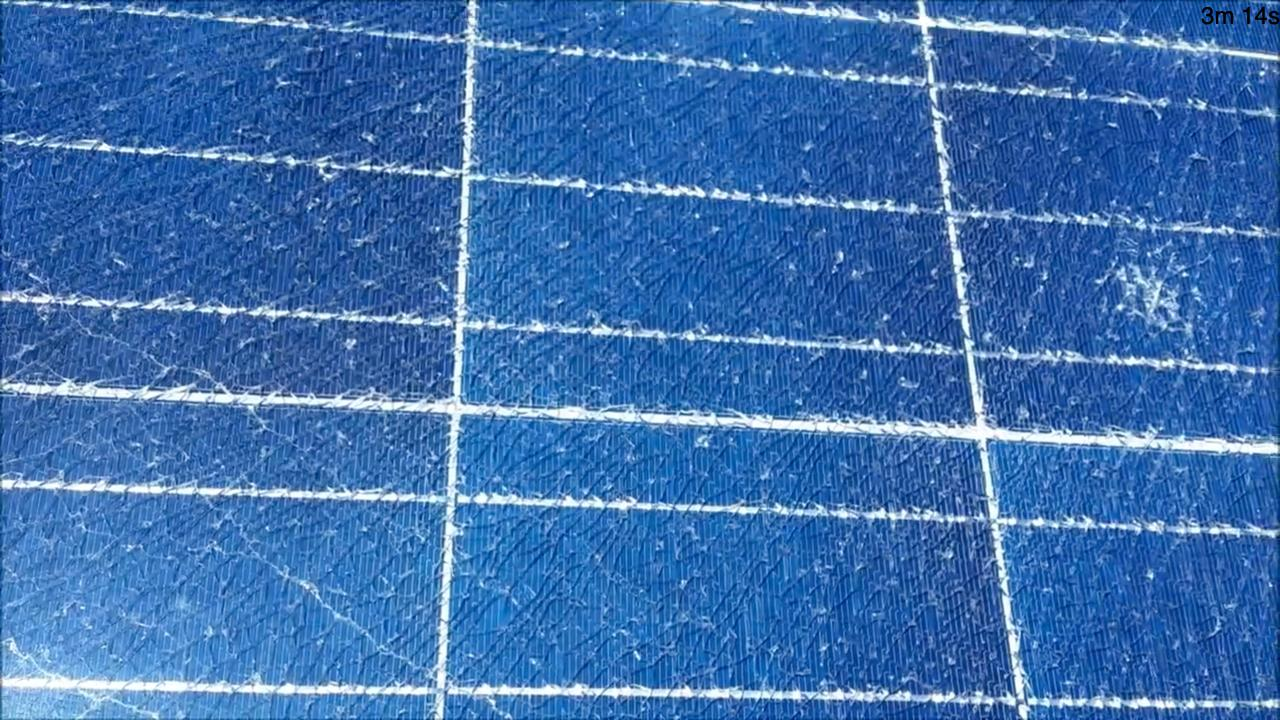Crack: (940, 164, 1280, 720), (470, 341, 964, 715), (0, 338, 458, 720), (476, 4, 932, 324), (8, 10, 466, 328), (947, 33, 1270, 158), (1084, 220, 1218, 347)
